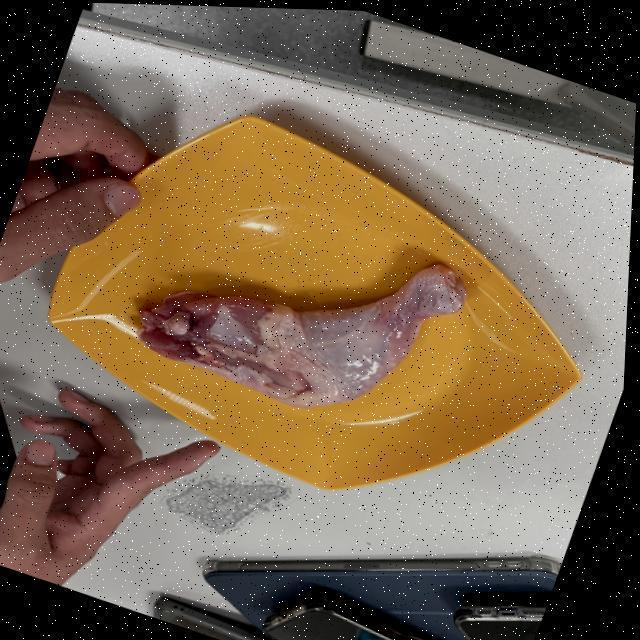quater: (129, 249, 473, 410)
